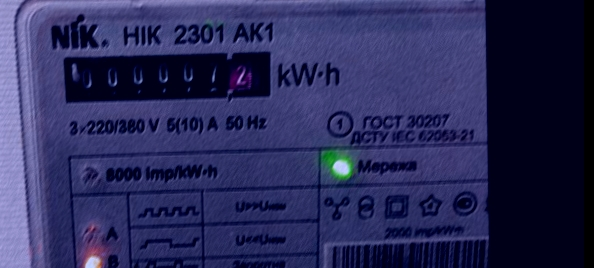0: (79, 65, 94, 89), (156, 61, 171, 84), (181, 59, 195, 83), (105, 64, 119, 87), (131, 62, 145, 85)
2: (234, 63, 248, 86)
7: (207, 59, 220, 83)
screen: (53, 41, 281, 110)
